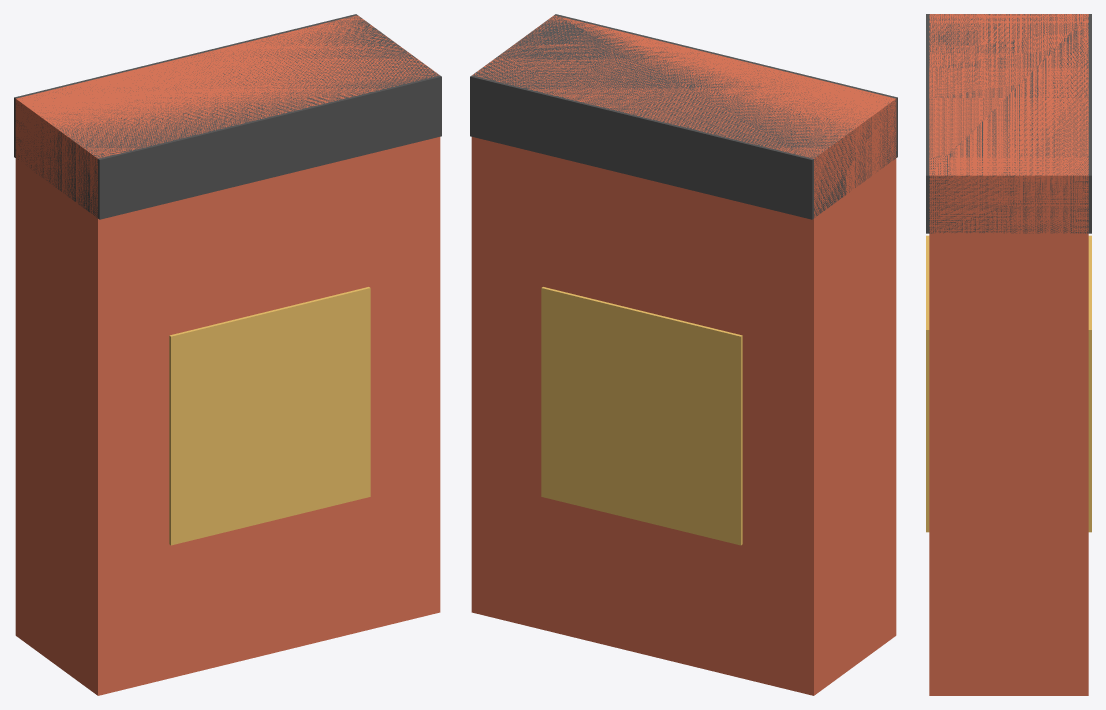
File: keripik_balado.glb
3 views of the same model, side by side, from view 1: azimuth 30°, elevation 25°; view 2: azimuth 150°, elevation 25°; view 3: azimuth 270°, elevation 25° (orthographic). The views are drawn at different scales.
Visible parts, largest first — view 1: kemasan, jendela, segel; view 2: kemasan, segel, jendela; view 3: kemasan, segel, jendela.
Part boxes in pixels (bbox=[...]): kemasan: bbox=[15, 15, 440, 695]; jendela: bbox=[169, 287, 370, 545]; segel: bbox=[14, 14, 441, 219]; kemasan: bbox=[471, 15, 896, 695]; segel: bbox=[470, 14, 897, 219]; jendela: bbox=[541, 287, 742, 545]; kemasan: bbox=[929, 14, 1088, 695]; segel: bbox=[926, 14, 1091, 233]; jendela: bbox=[926, 235, 1091, 532].
Size of the model in its own units: 0.12 by 0.18 by 0.052.
